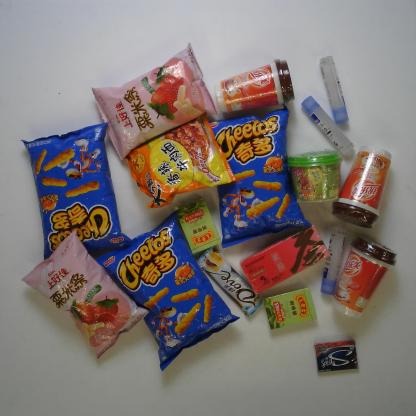Candy: (174, 195, 221, 254), (264, 286, 318, 331)
Chocolate: (196, 246, 263, 319)
Gum: (314, 339, 358, 373)
Instant Drink: (239, 224, 331, 296), (329, 234, 398, 320), (330, 144, 392, 230), (213, 56, 295, 114), (286, 149, 344, 203)
Instant Noodles: (124, 110, 236, 209)
Puffed Food: (92, 208, 240, 374), (20, 229, 150, 360), (207, 102, 314, 250), (20, 122, 132, 262), (91, 42, 220, 162)
Stationery: (300, 95, 355, 156), (320, 54, 350, 126), (320, 230, 346, 296)
